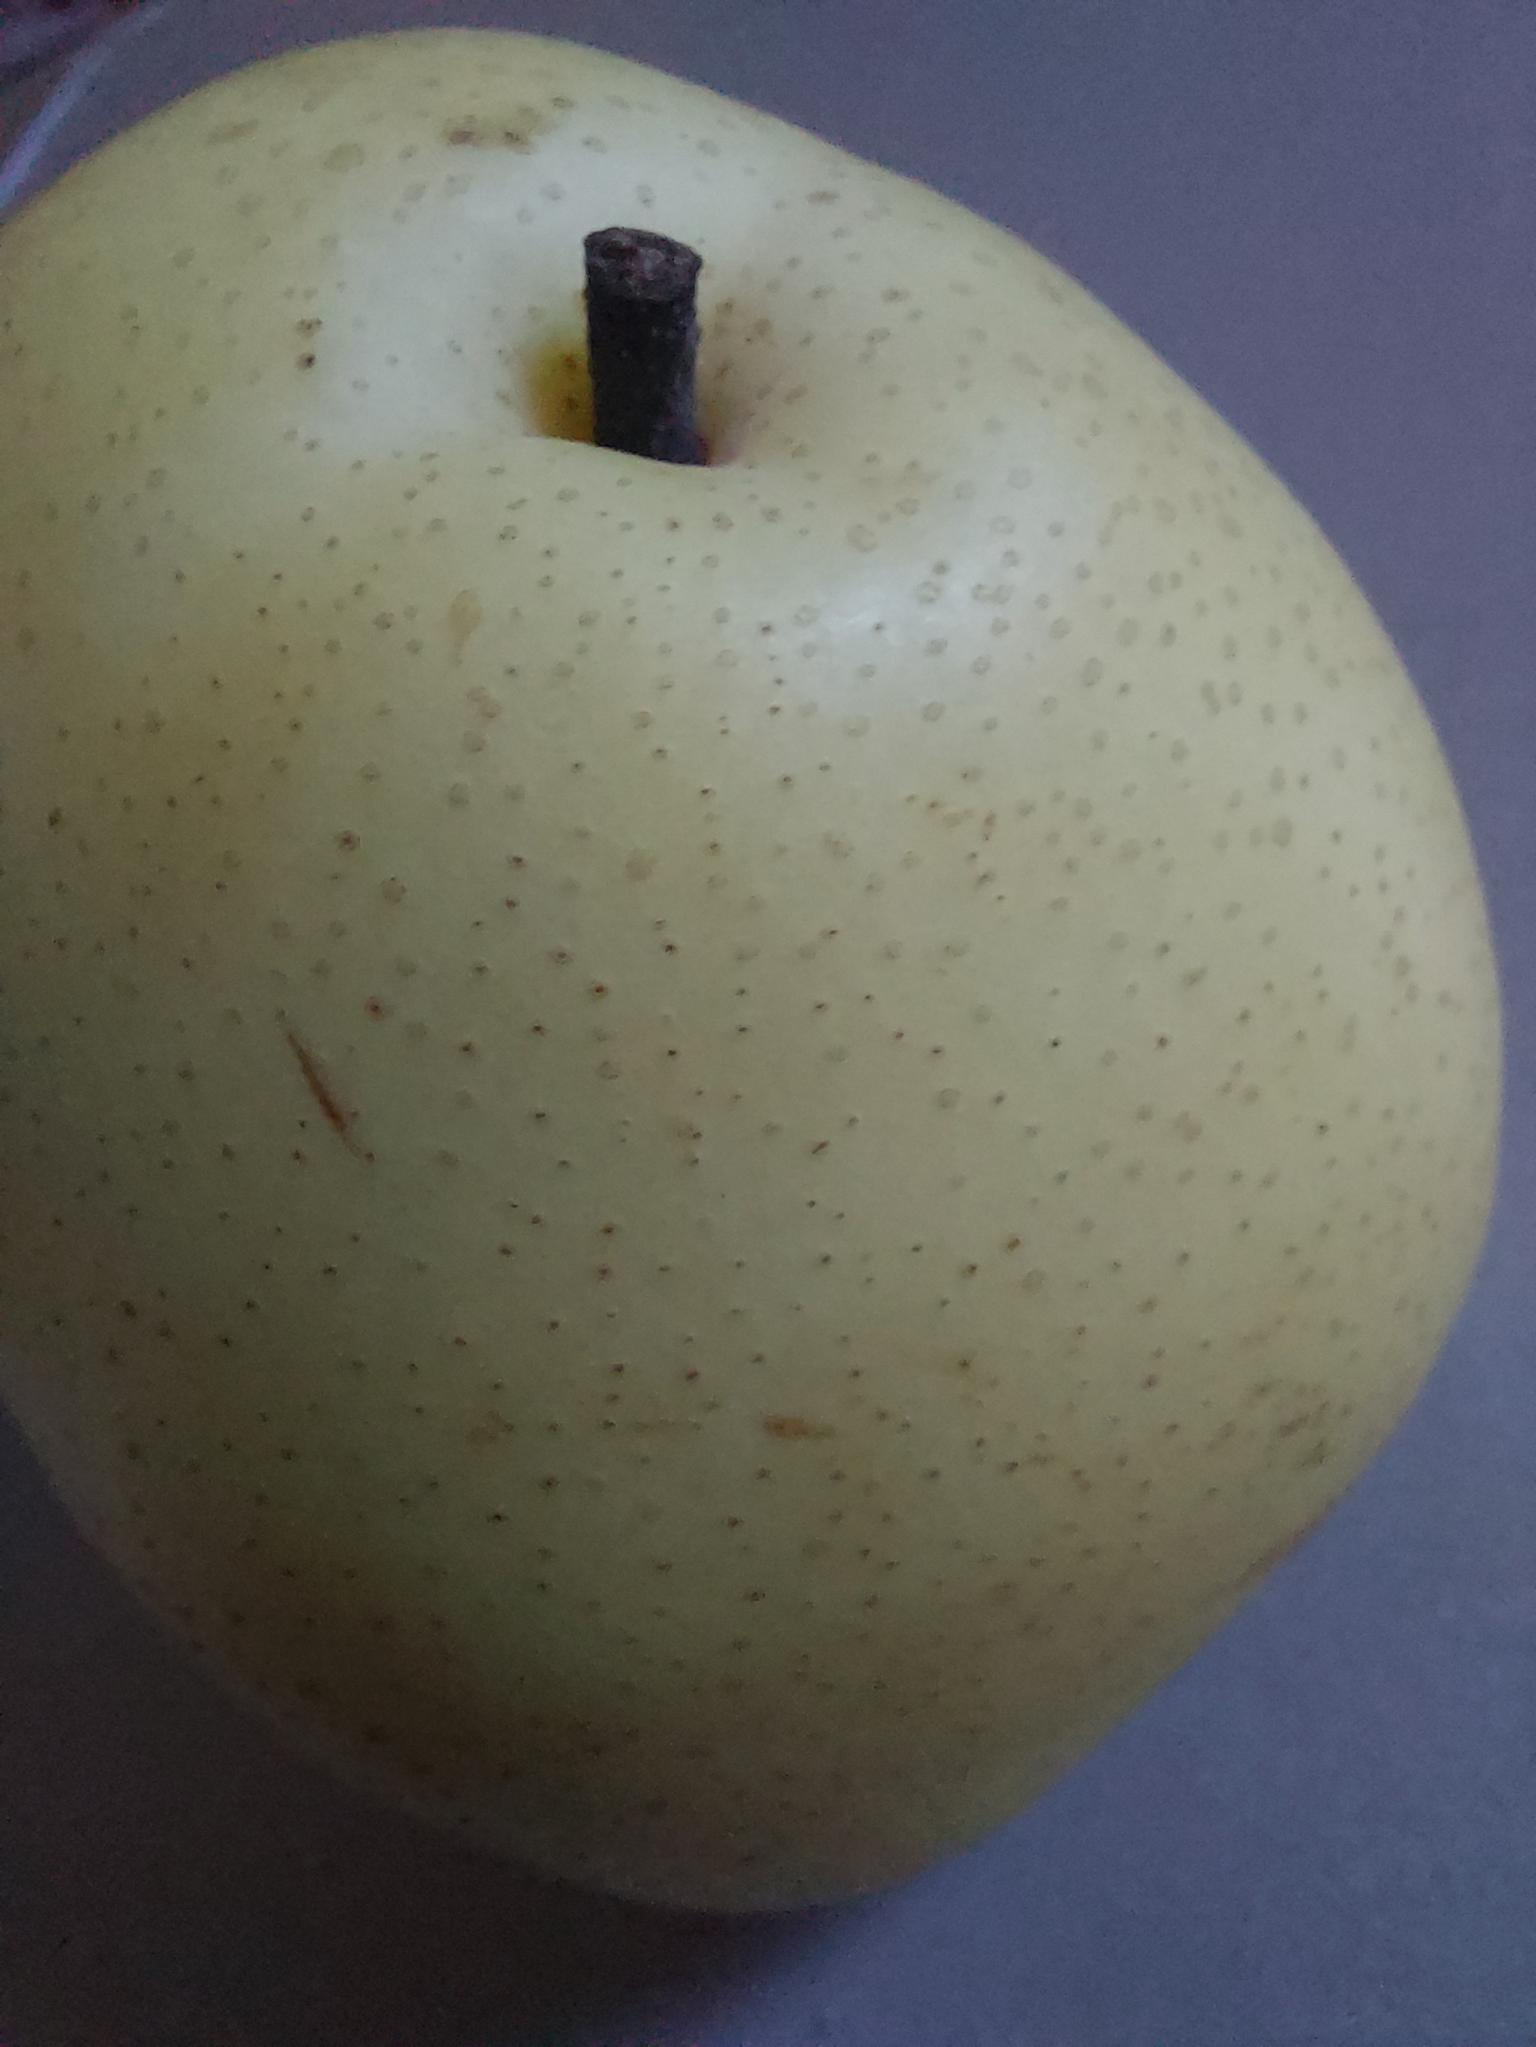Good Pear: (0, 10, 1513, 1945)
